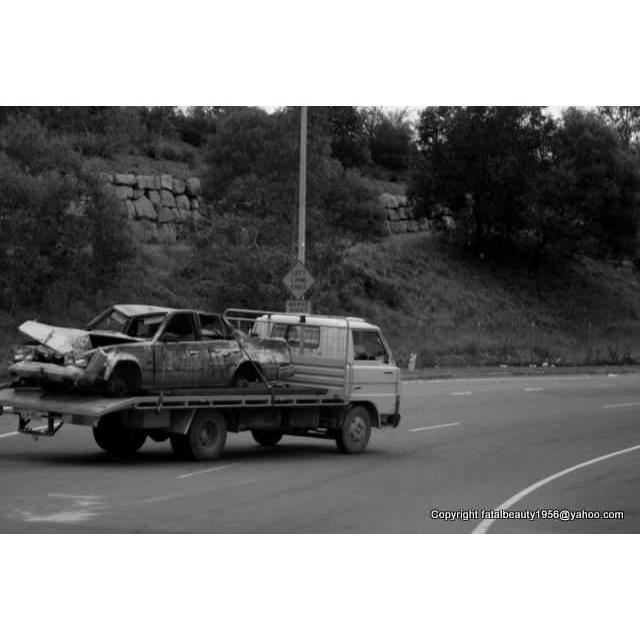bonnet-dent: (29, 323, 132, 357)
doorouter-dent: (158, 345, 203, 388), (206, 340, 239, 393)
front-bumper-dent: (20, 352, 106, 388)
quaterpanel-dent: (233, 330, 296, 375)
